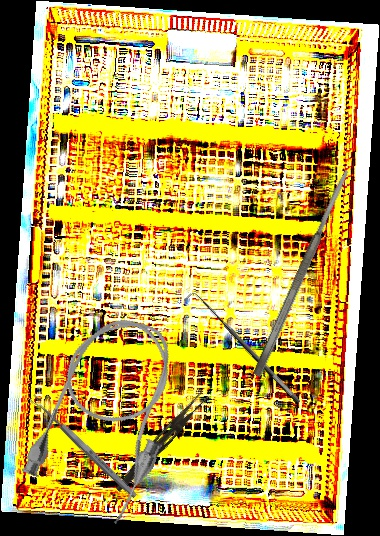Cannula: (16, 301, 202, 530)
Dressing Forceps: (113, 387, 210, 497)
Hook Surgical: (182, 286, 303, 413)
Spatula Surgical: (250, 168, 354, 378)
Surgical Spoon: (28, 393, 139, 500)
